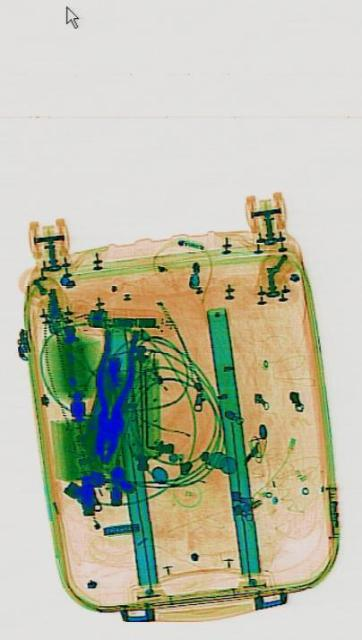Pliers: (83, 320, 138, 468)
